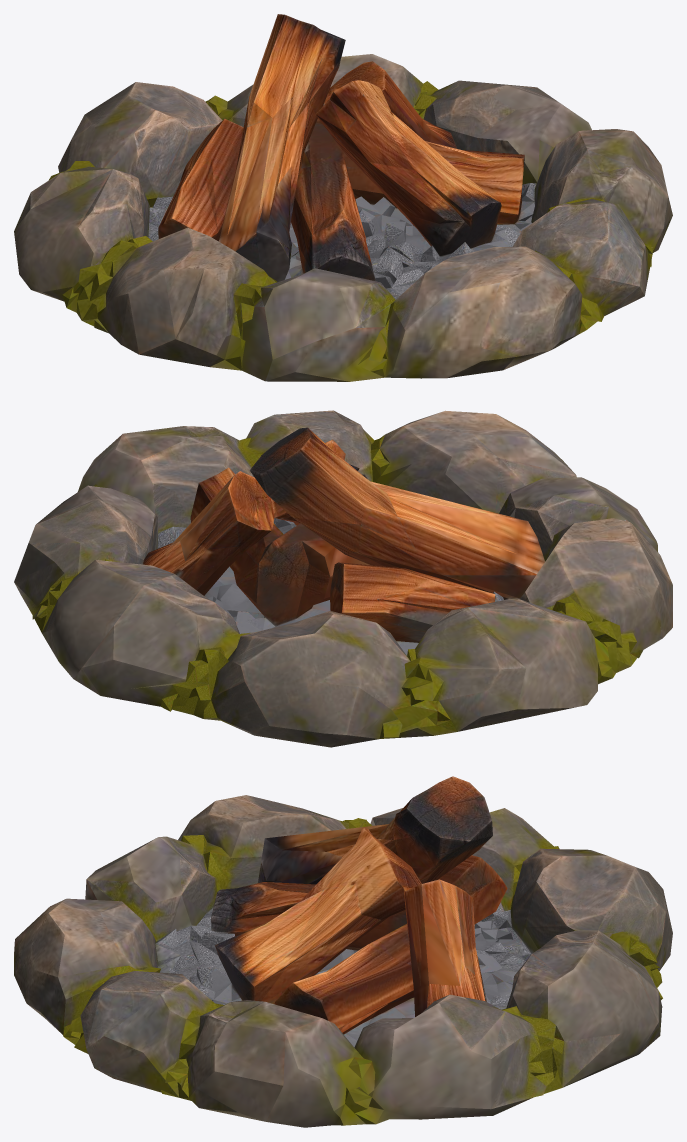
File: PRP-004.glb
3 views of the same model, one above another, from view 1: azimuth 30°, elevation 25°; view 2: azimuth 150°, elevation 25°; view 3: azimuth 270°, elevation 25° (orthographic).
Visible parts, largest first — view 1: PRP-004; view 2: PRP-004; view 3: PRP-004.
Part boxes in pixels (box(x1,y1,x2,y2)): PRP-004: box(14, 14, 672, 381); PRP-004: box(14, 410, 672, 747); PRP-004: box(14, 776, 672, 1127).
Size of the model in its own units: 1.56 by 0.55 by 1.58.
1 material, 1 textured.
